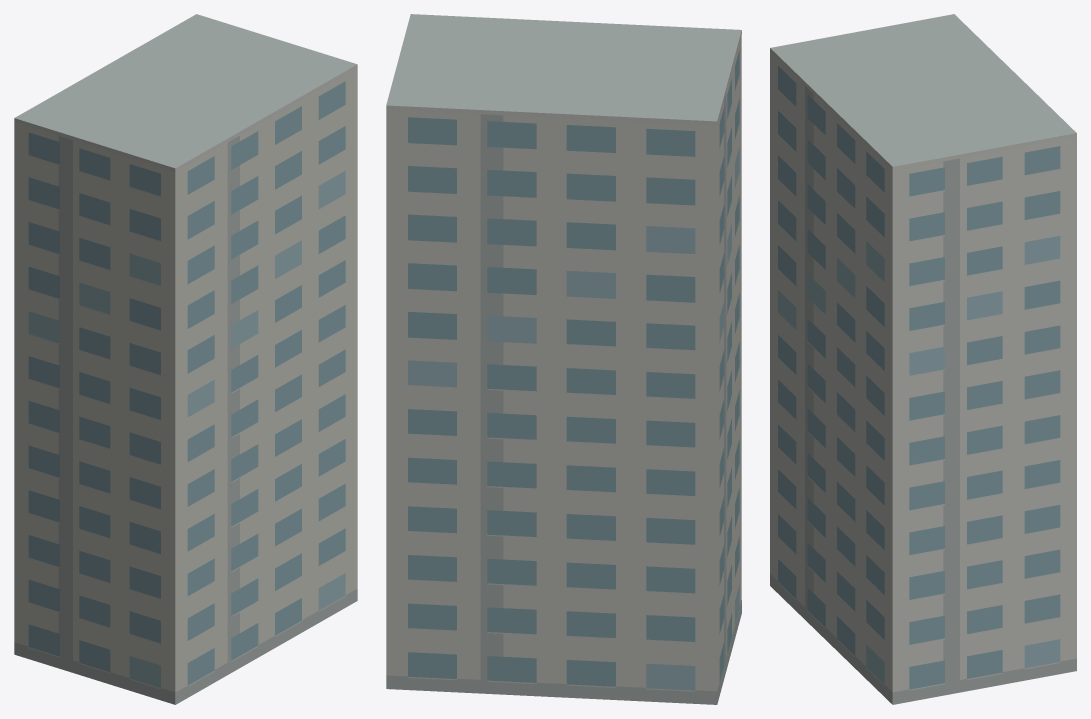
The model's file is residential-b66b6795-64e2-412d-a586-477d4fd39ac6.glb.
3 views of the same model, side by side, from view 1: azimuth 30°, elevation 25°; view 2: azimuth 150°, elevation 25°; view 3: azimuth 270°, elevation 25° (orthographic). The views are drawn at different scales.
Parts seen in each view (by area): view 1: residential-b66b6795-64e2-412d-a586-477d4fd39ac6.tmp; view 2: residential-b66b6795-64e2-412d-a586-477d4fd39ac6.tmp; view 3: residential-b66b6795-64e2-412d-a586-477d4fd39ac6.tmp.
Boxes of the visible parts, x1,y1,x2,y2 form: residential-b66b6795-64e2-412d-a586-477d4fd39ac6.tmp: (14,14,357,704); residential-b66b6795-64e2-412d-a586-477d4fd39ac6.tmp: (386,14,741,704); residential-b66b6795-64e2-412d-a586-477d4fd39ac6.tmp: (770,14,1076,704).
Size of the model in its own units: 20.74 by 34 by 17.58.
